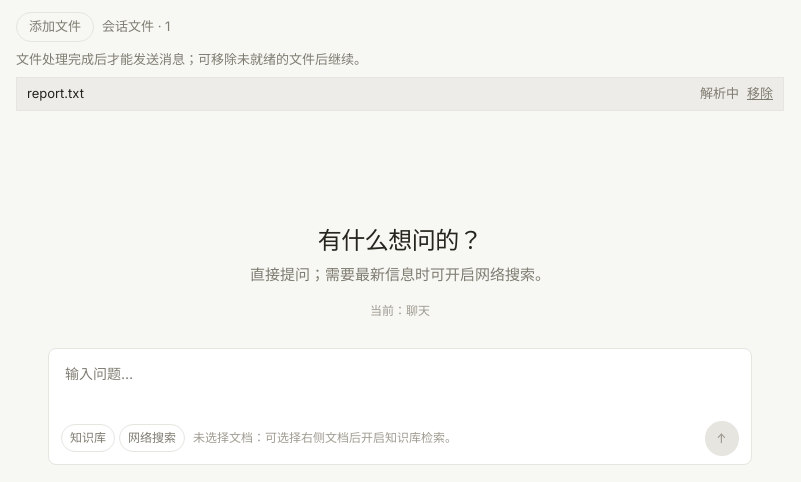
Scenario: SessionFileTray delete failure paths (review round-5) › keeps a deleted binding dead when an in-flight poll GET lands after the delete
Check: the text "report.txt" is shown, box top-left (27, 85), bottom-right (84, 101)
// Delete while that GET is still pending.
Click the button "移除" at (760, 94), box top-left (747, 84), bottom-right (773, 104)
Wait 80 ms
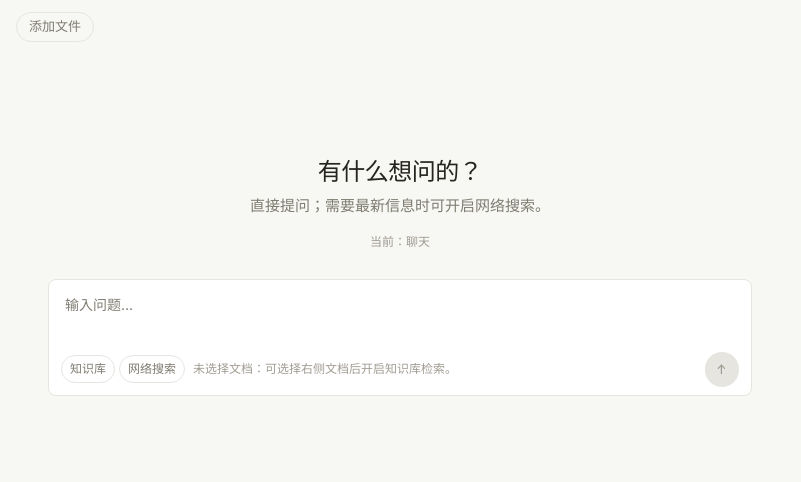
Check: the text "report.txt" is gone
